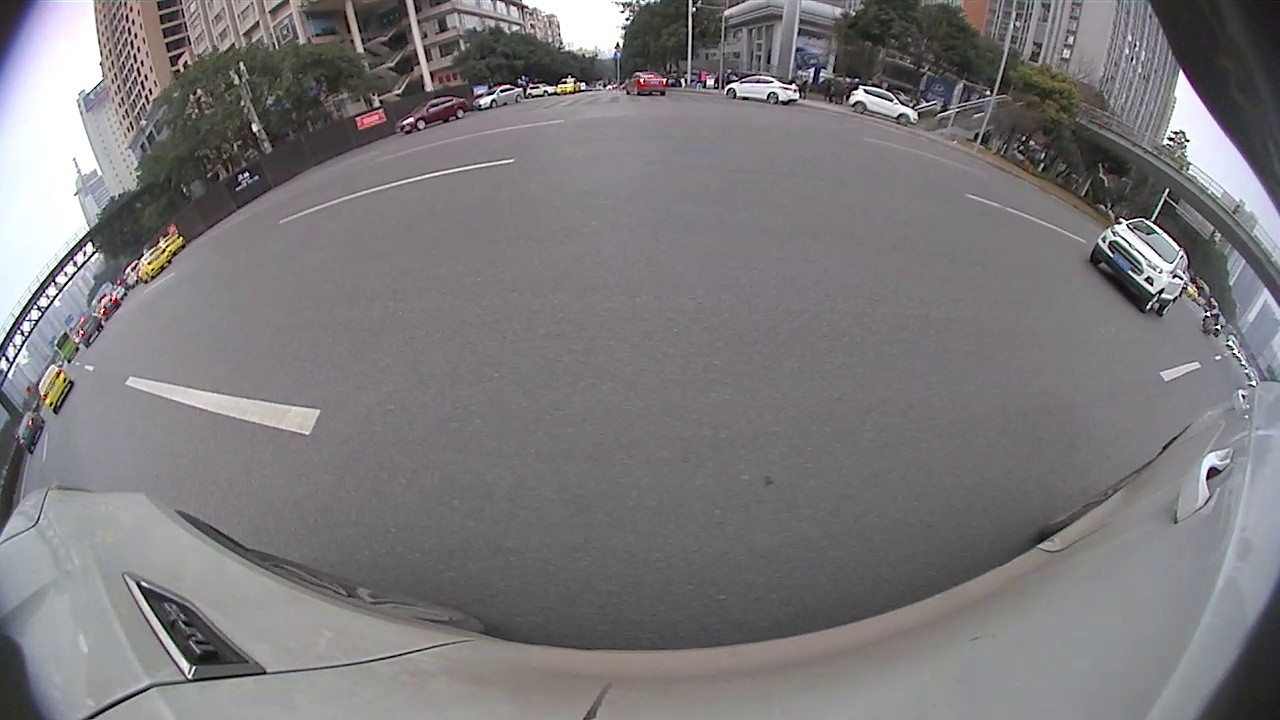car: (1090, 217, 1187, 317), (394, 95, 471, 137), (848, 85, 919, 128), (724, 73, 802, 107), (36, 363, 74, 415), (472, 83, 526, 113), (135, 245, 174, 284), (16, 410, 47, 455), (624, 70, 669, 97)
front: (1139, 293, 1163, 313), (1161, 301, 1176, 316), (899, 113, 908, 125), (417, 120, 425, 129), (726, 88, 733, 98)
rear: (854, 102, 865, 114), (768, 93, 778, 103), (455, 109, 466, 118)
